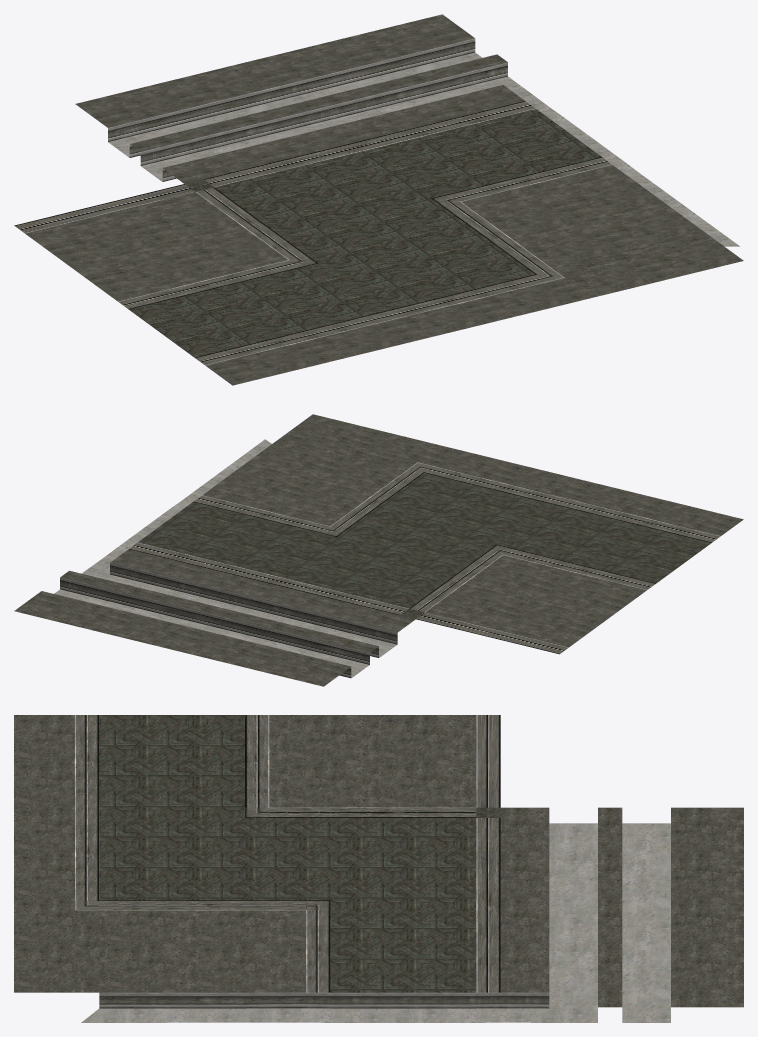
Rendered from DWARF_PALACE_MAINHALL_FLOOR03.fbx.
The picture shows the model from 3 angles, top to bottom: view 1: azimuth 30°, elevation 25°; view 2: azimuth 150°, elevation 25°; view 3: azimuth 270°, elevation 25°; orthographic projection. The views are drawn at different scales.
Visible parts, largest first — view 1: DWARF_PALACE_MAINHALL_FLOOR03; view 2: DWARF_PALACE_MAINHALL_FLOOR03; view 3: DWARF_PALACE_MAINHALL_FLOOR03.
Part boxes in pixels (x1,y1,x2,y2): DWARF_PALACE_MAINHALL_FLOOR03: [14, 14, 743, 385]; DWARF_PALACE_MAINHALL_FLOOR03: [14, 414, 743, 686]; DWARF_PALACE_MAINHALL_FLOOR03: [14, 715, 743, 1022].
Size of the model in its own units: 284027 by 7129 by 300000.
Materials: 7 (7 with a texture image).
